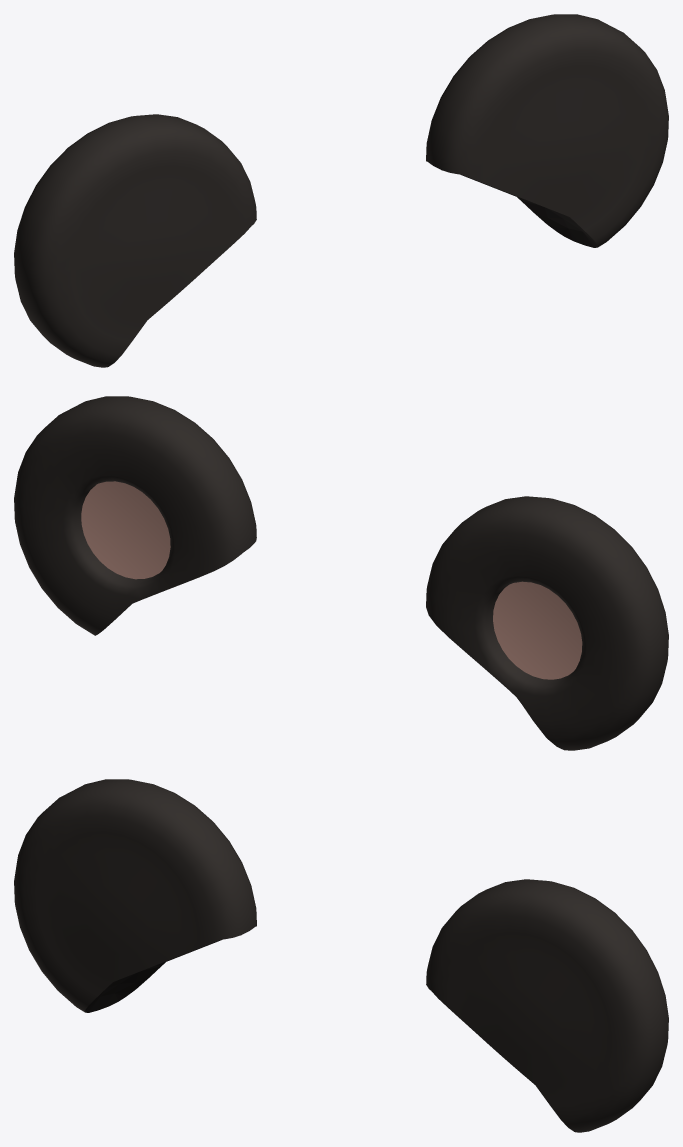
File: Cosmetic_Panda_Ears.glb
The picture shows the model from 3 angles, top to bottom: view 1: azimuth 30°, elevation 25°; view 2: azimuth 150°, elevation 25°; view 3: azimuth 330°, elevation 25°; orthographic projection.
Visible parts, largest first — view 1: Cosmetic_Panda_Ears; view 2: Cosmetic_Panda_Ears; view 3: Cosmetic_Panda_Ears.
Part boxes in pixels (left/top/right/bottom): Cosmetic_Panda_Ears: left=14, top=14, right=668, bottom=367; Cosmetic_Panda_Ears: left=14, top=396, right=668, bottom=750; Cosmetic_Panda_Ears: left=14, top=779, right=668, bottom=1132.
Bounding box in the file's own units: 1.2 × 0.4173 × 0.117.
